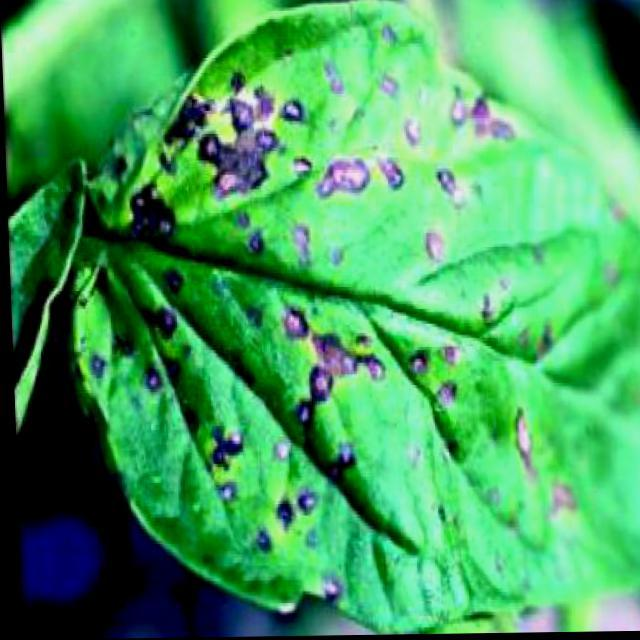Tomato late blight leaf: (28, 0, 639, 623)
